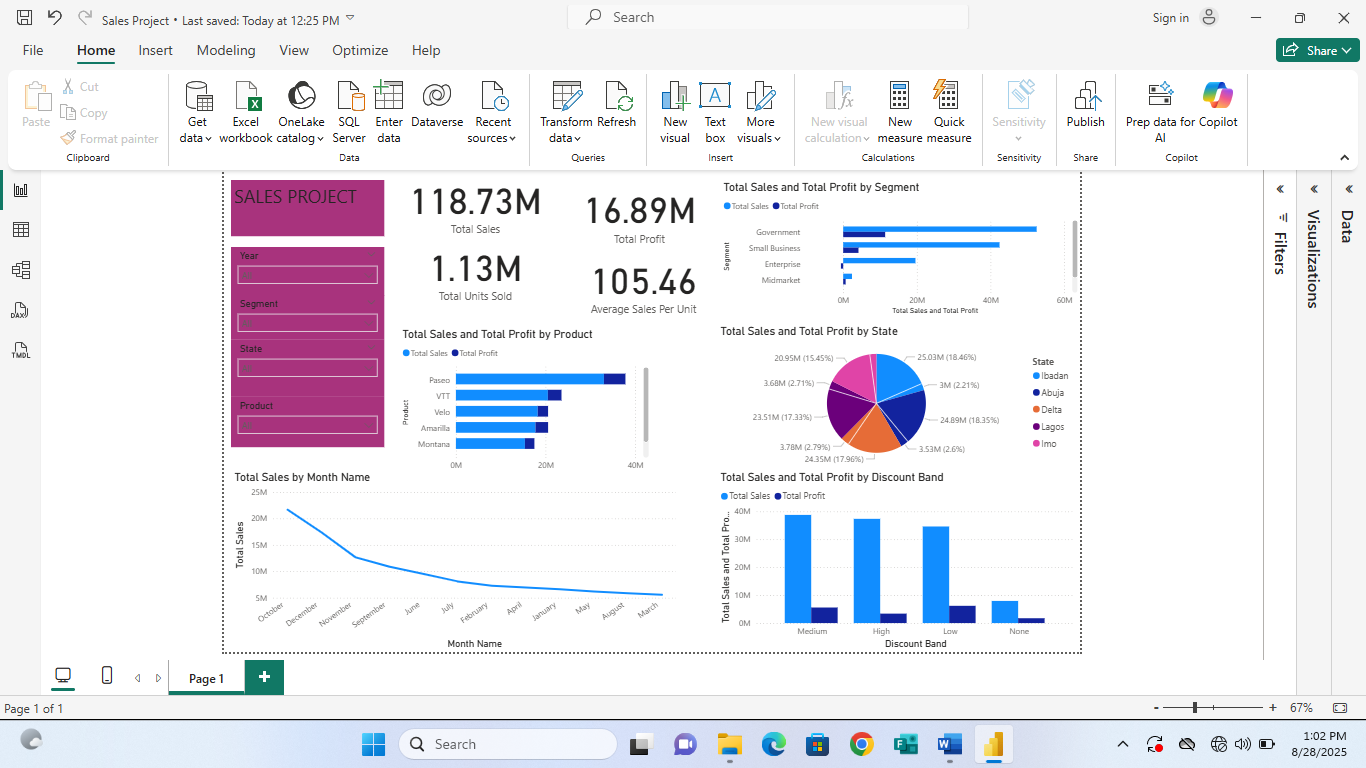

Layout of this report page (visuals, bound fields, positions):
{"tool":"powerbi","page":{"name":"Page 1","canvas":[1280,720],"ordinal":0},"visuals":[{"type":"textbox","box":[10.5,14.9,228.5,83.7],"z":0},{"type":"card","fields":{"Values":["SalesProject.Total Sales"]},"box":[262,0,228.5,99.1],"z":1000},{"type":"card","fields":{"Values":["SalesProject.Total Profit"]},"box":[506.4,14.9,228.5,98.6],"z":2000},{"type":"card","fields":{"Values":["SalesProject.Total Units Sold"]},"box":[262,99.1,228.5,102.5],"z":3000},{"type":"card","fields":{"Values":["SalesProject.Average Sales Per Unit"]},"box":[512.4,118,228.5,103.1],"z":4000},{"type":"clusteredBarChart","fields":{"Category":["SalesProject.Segment"],"Y":["SalesProject.Total Sales","SalesProject.Total Profit"]},"box":[740.9,14.9,539.3,206.1],"z":5000},{"type":"pieChart","fields":{"Category":["SalesProject.State"],"Y":["SalesProject.Total Sales","SalesProject.Total Profit"]},"box":[736.4,230,539.3,218.1],"z":6000},{"type":"barChart","fields":{"Category":["SalesProject.Product"],"Y":["SalesProject.Total Sales","SalesProject.Total Profit"]},"box":[261.4,234.5,377.9,233],"z":7000},{"type":"lineChart","fields":{"Category":["SalesProject.Month Name"],"Y":["SalesProject.Total Sales"]},"box":[10.5,448.1,669.2,271.9],"z":8000},{"type":"clusteredColumnChart","fields":{"Category":["SalesProject.Discount Band"],"Y":["SalesProject.Total Sales","SalesProject.Total Profit"]},"box":[736,448,539,272],"z":9000},{"type":"slicer","fields":{"Values":["SalesProject.Year"]},"box":[10.5,115,228.5,71.7],"z":10000},{"type":"slicer","fields":{"Values":["SalesProject.Segment"]},"box":[10.5,186.7,228.5,67.2],"z":11000},{"type":"slicer","fields":{"Values":["SalesProject.State"]},"box":[10.5,253.9,228.5,85.1],"z":12000},{"type":"slicer","fields":{"Values":["SalesProject.Product"]},"box":[10.5,339.1,228.5,74.7],"z":13000}]}

Visuals, with their boxes on the page's 1280x720 design canvas (x1, y1, x2, y2). These are canvas units, not pixel positions in the 1366x768 screenshot, which may show the page scaled, cropped or inside an application window:
textbox: [x1=10, y1=15, x2=239, y2=99]
card - SalesProject.Total Sales: [x1=262, y1=0, x2=490, y2=99]
card - SalesProject.Total Profit: [x1=506, y1=15, x2=735, y2=114]
card - SalesProject.Total Units Sold: [x1=262, y1=99, x2=490, y2=202]
card - SalesProject.Average Sales Per Unit: [x1=512, y1=118, x2=741, y2=221]
clusteredBarChart - SalesProject.Segment x SalesProject.Total Sales: [x1=741, y1=15, x2=1280, y2=221]
pieChart - SalesProject.State x SalesProject.Total Sales: [x1=736, y1=230, x2=1276, y2=448]
barChart - SalesProject.Product x SalesProject.Total Sales: [x1=261, y1=234, x2=639, y2=468]
lineChart - SalesProject.Month Name x SalesProject.Total Sales: [x1=10, y1=448, x2=680, y2=720]
clusteredColumnChart - SalesProject.Discount Band x SalesProject.Total Sales: [x1=736, y1=448, x2=1275, y2=720]
slicer - SalesProject.Year: [x1=10, y1=115, x2=239, y2=187]
slicer - SalesProject.Segment: [x1=10, y1=187, x2=239, y2=254]
slicer - SalesProject.State: [x1=10, y1=254, x2=239, y2=339]
slicer - SalesProject.Product: [x1=10, y1=339, x2=239, y2=414]
